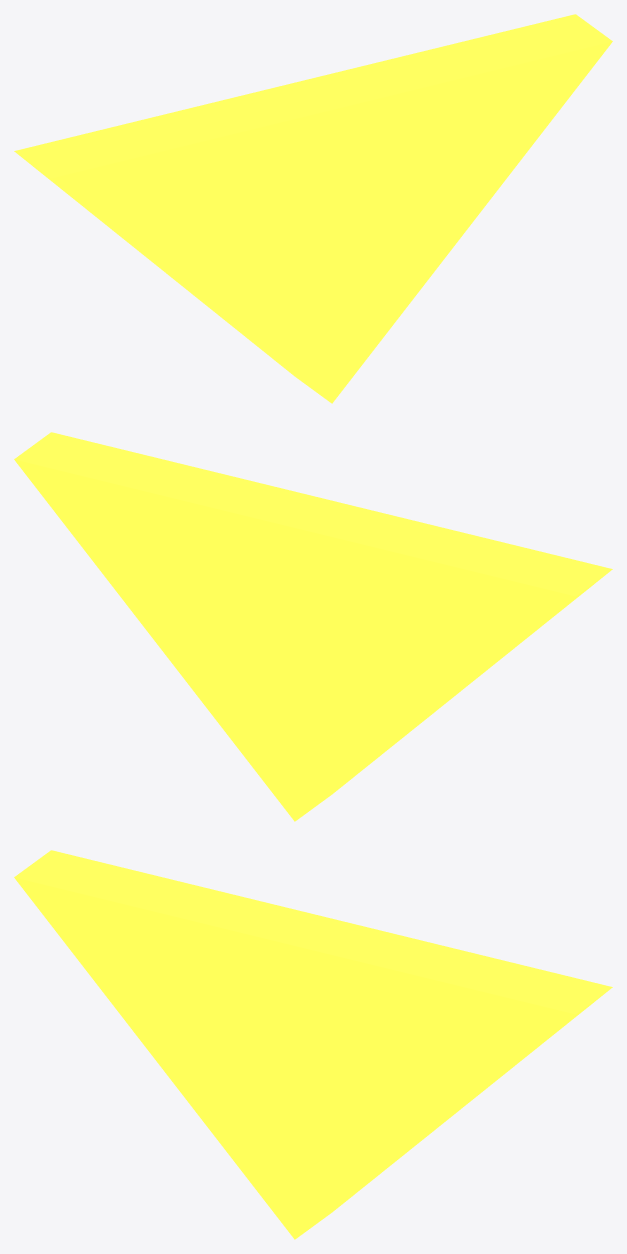
File: arrow_01_pipa3.fbx
The picture shows the model from 3 angles, top to bottom: view 1: azimuth 30°, elevation 25°; view 2: azimuth 150°, elevation 25°; view 3: azimuth 330°, elevation 25°; orthographic projection.
Parts seen in each view (by area): view 1: Cube.037; view 2: Cube.037; view 3: Cube.037.
Boxes of the visible parts, <box> form: Cube.037: <box>14,14,612,403</box>; Cube.037: <box>14,432,612,821</box>; Cube.037: <box>14,850,612,1239</box>.
Size of the model in its own units: 5.83 by 2.92 by 0.6705.
